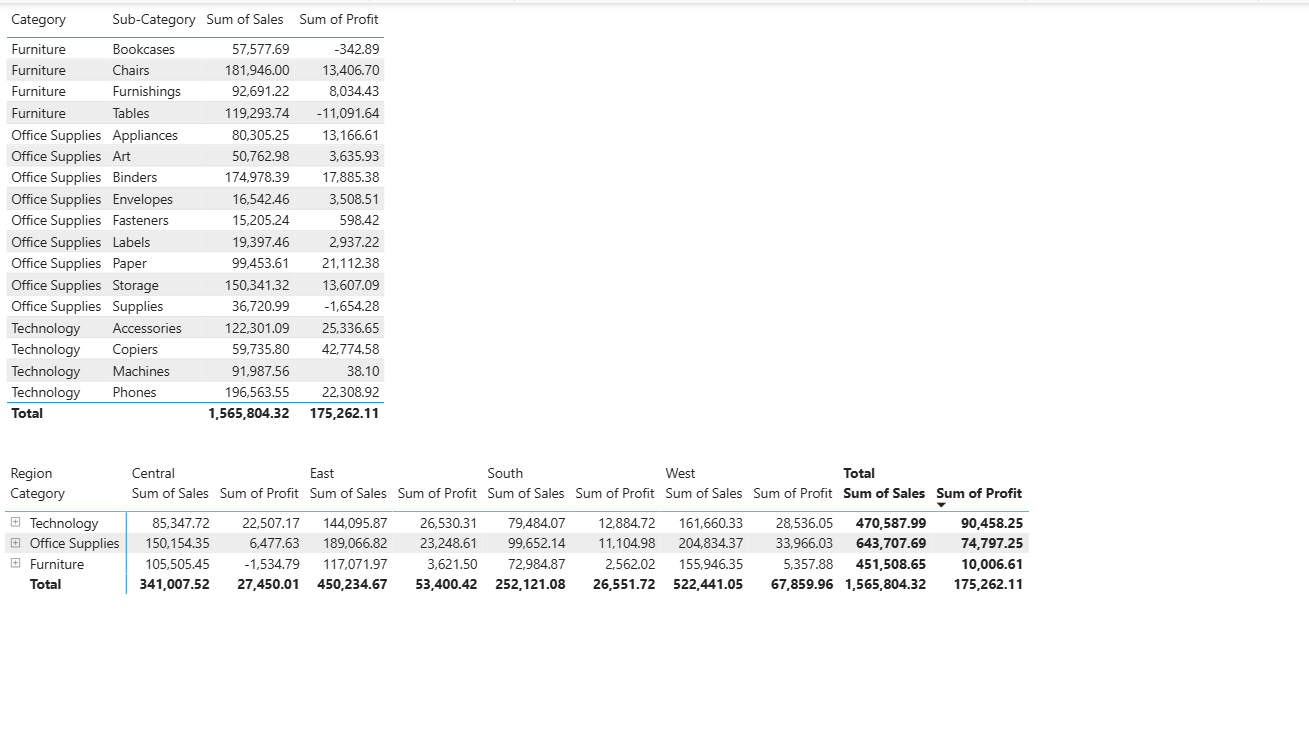

What the dashboard file says about the page in this screenshot:
{"tool":"powerbi","page":{"name":"Page 3","canvas":[1280,720],"ordinal":2},"visuals":[{"type":"tableEx","fields":{"Values":["SuperStore_Sales_Dataset.Category","SuperStore_Sales_Dataset.Sub-Category","Sum(SuperStore_Sales_Dataset.Sales)","Sum(SuperStore_Sales_Dataset.Profit)"]},"box":[0,0,415.5,427.1],"z":0},{"type":"pivotTable","fields":{"Rows":["SuperStore_Sales_Dataset.Category","SuperStore_Sales_Dataset.Sub-Category"],"Values":["Sum(SuperStore_Sales_Dataset.Sales)","Sum(SuperStore_Sales_Dataset.Profit)"],"Columns":["SuperStore_Sales_Dataset.Region"]},"box":[0,444.4,1239.3,171.7],"z":1000}]}

Visuals, with their boxes in screenshot pixels (x1, y1, x2, y2), scaled from the page's 1280x720 canvas onto the 1309x736 screenshot:
tableEx - SuperStore_Sales_Dataset.Category x SuperStore_Sales_Dataset.Sub-Category: <bbox>0, 0, 425, 437</bbox>
pivotTable - SuperStore_Sales_Dataset.Category x SuperStore_Sales_Dataset.Sub-Category: <bbox>0, 454, 1267, 630</bbox>
